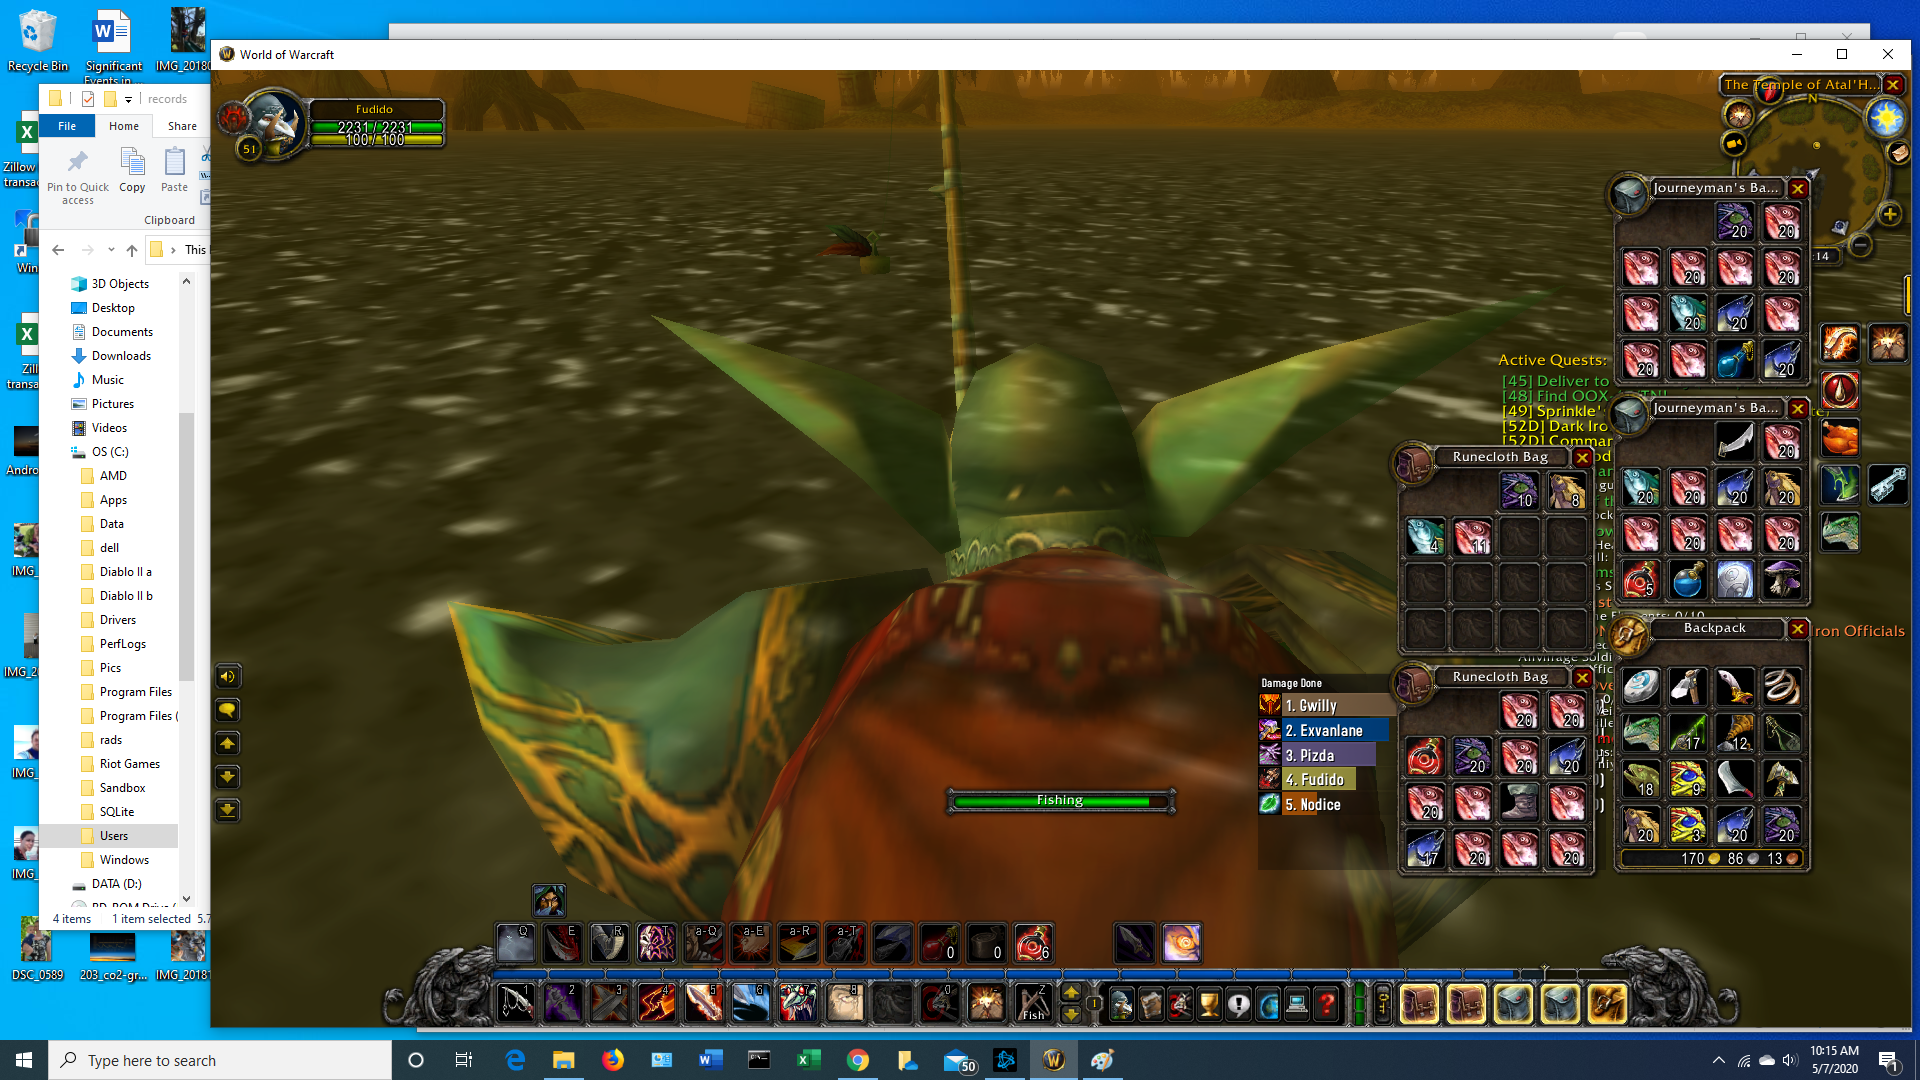bobber: (818, 218, 895, 284)
